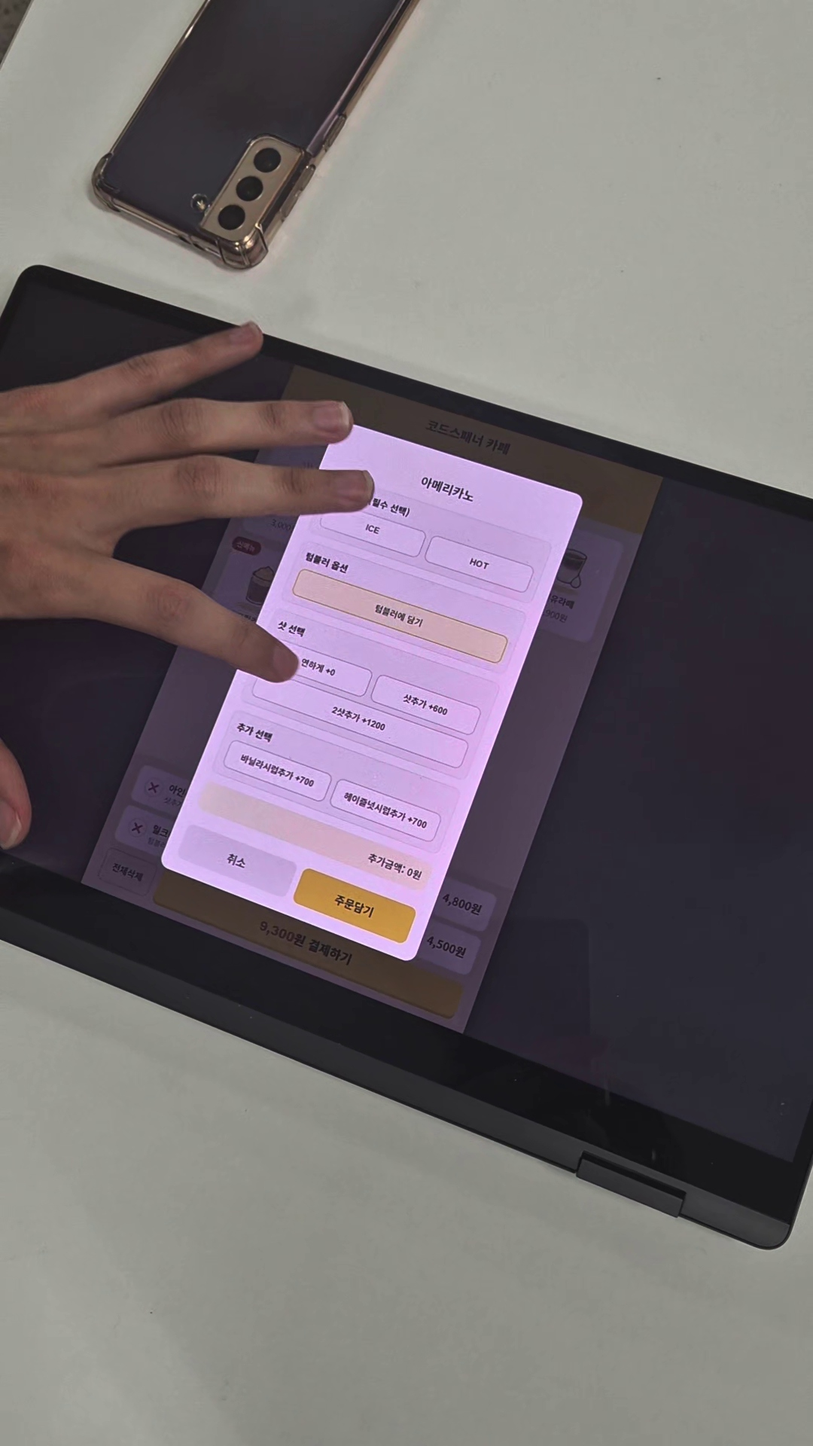action_button: (289, 867, 419, 949), (175, 822, 298, 901)
menu_name: (409, 465, 490, 516)
option_button: (286, 567, 510, 668), (249, 668, 469, 769), (327, 777, 445, 847), (260, 634, 374, 700), (368, 672, 482, 738), (419, 535, 536, 598), (223, 739, 333, 802), (319, 502, 428, 562)
popup_modal: (152, 414, 589, 969)
